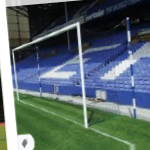goals: (10, 20, 122, 129)
